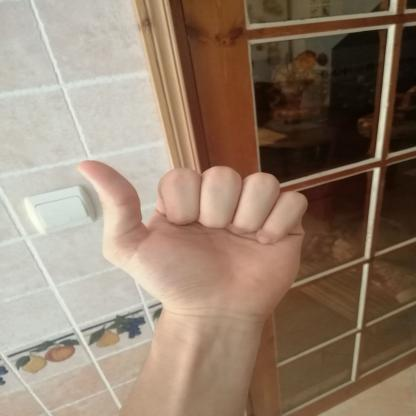DAD: (61, 148, 317, 331)
